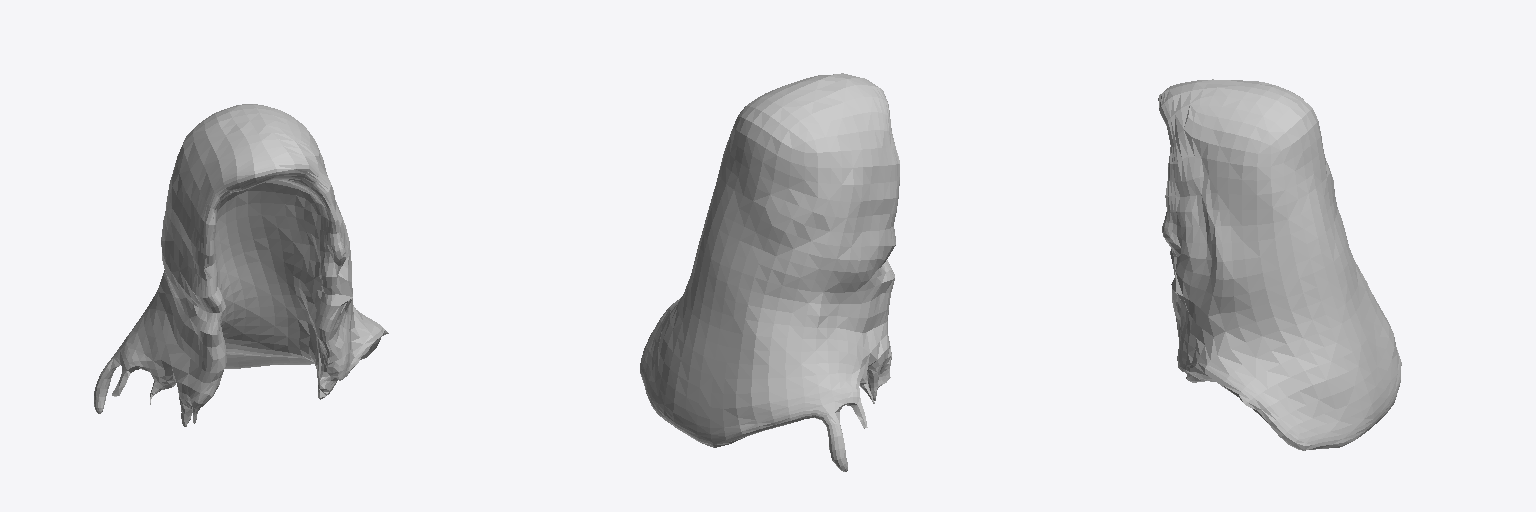
The model's file is hair.obj.
The picture shows the model from 3 angles: view 1: azimuth 30°, elevation 25°; view 2: azimuth 150°, elevation 25°; view 3: azimuth 270°, elevation 25°; orthographic projection.
Visible parts, largest first — view 1: Hair_low_Group24770; view 2: Hair_low_Group24770; view 3: Hair_low_Group24770.
Part boxes in pixels (x1,y1,x2,y2): Hair_low_Group24770: (94, 104, 388, 426); Hair_low_Group24770: (640, 73, 899, 471); Hair_low_Group24770: (1158, 79, 1401, 450).
Size of the model in its own units: 4.32 by 5.39 by 3.75.